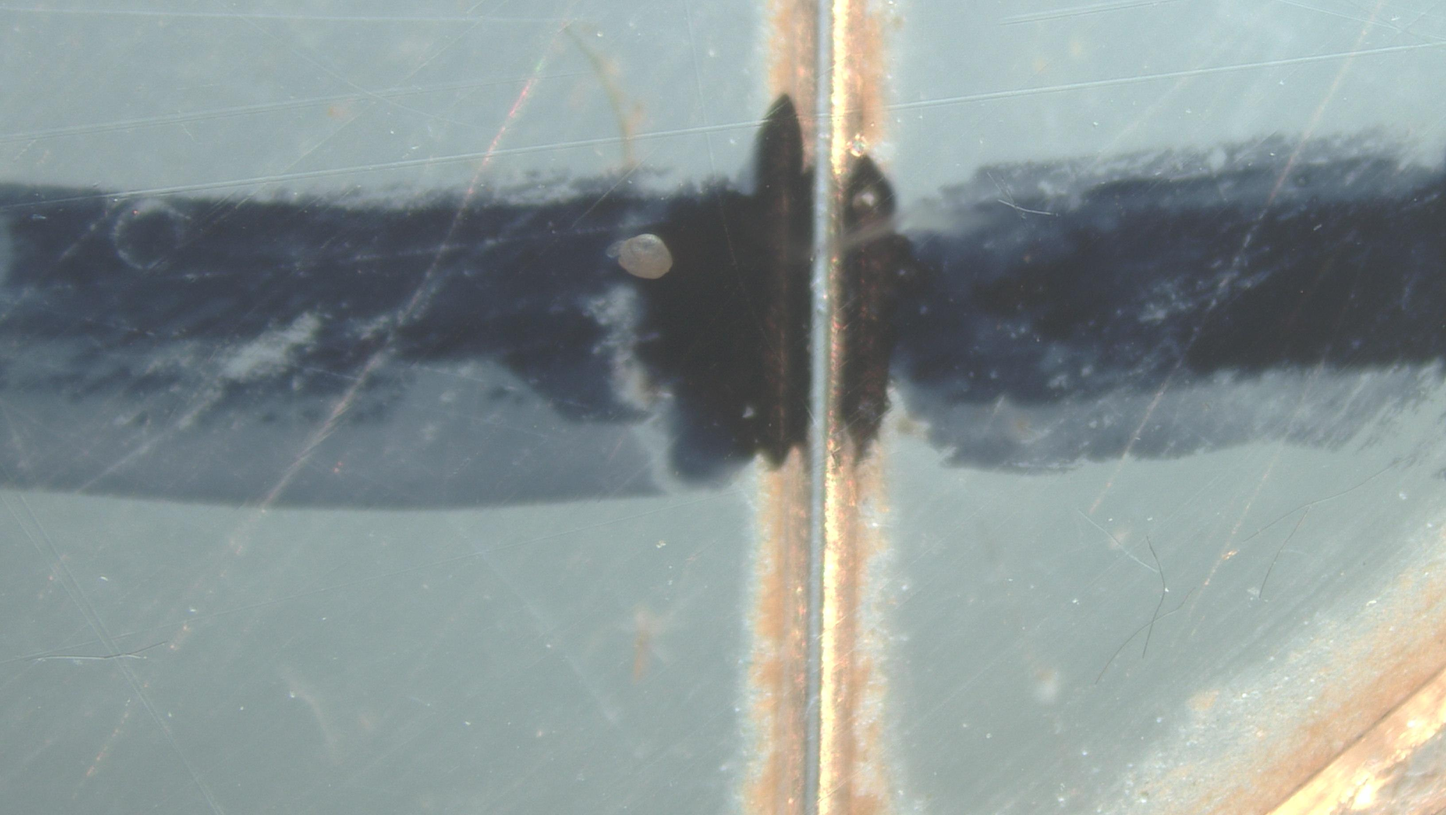live: (613, 234, 672, 279)
